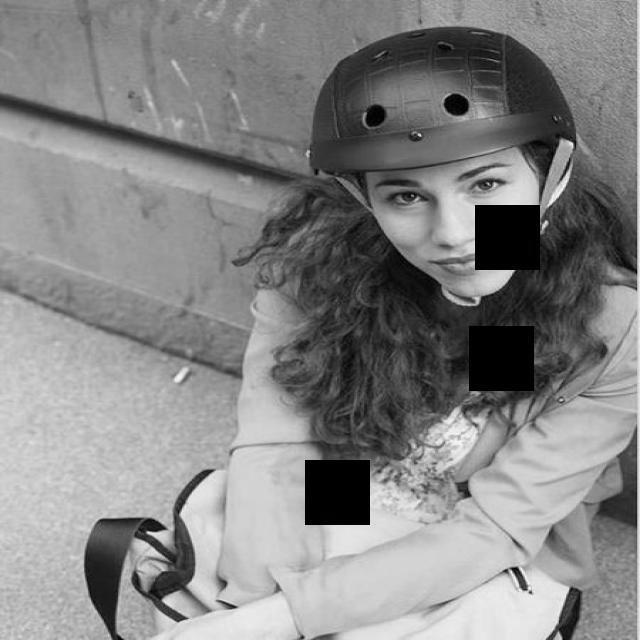helmet: (280, 22, 595, 187)
